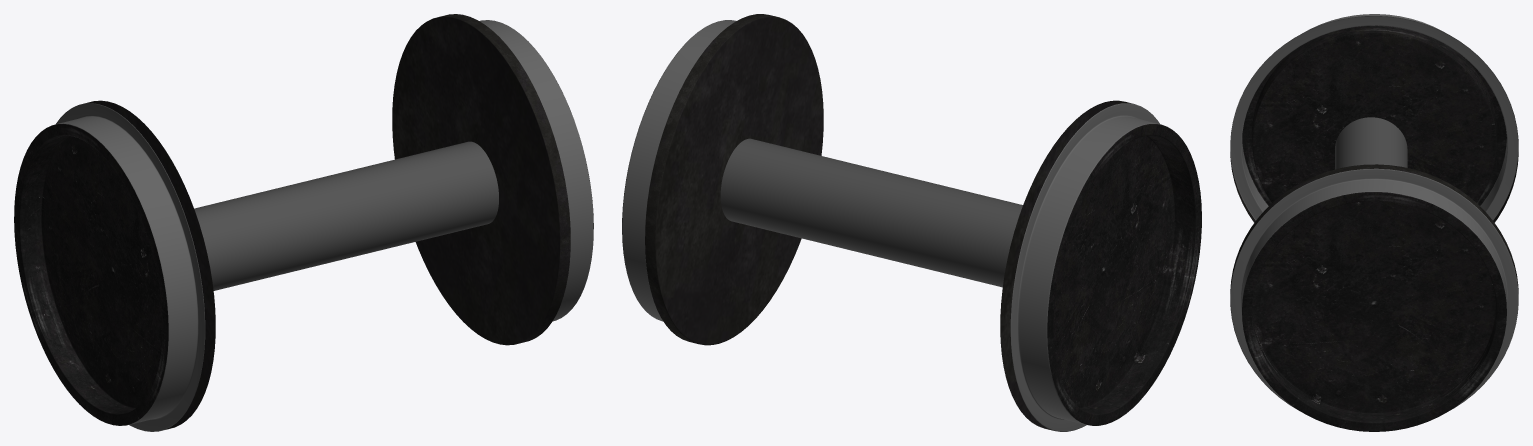
Rendered from wheelset.glb.
The picture shows the model from 3 angles, left to right: view 1: azimuth 30°, elevation 25°; view 2: azimuth 150°, elevation 25°; view 3: azimuth 270°, elevation 25°; orthographic projection. The views are drawn at different scales.
Parts seen in each view (by area): view 1: Wheelset_Front_1; view 2: Wheelset_Front_1; view 3: Wheelset_Front_1.
Boxes of the visible parts, left/top/right/bottom form: Wheelset_Front_1: left=14, top=14, right=593, bottom=431; Wheelset_Front_1: left=622, top=14, right=1201, bottom=431; Wheelset_Front_1: left=1230, top=14, right=1518, bottom=431.
Size of the model in its own units: 1.63 by 1.11 by 1.11.
Materials: 3 (1 with a texture image).
